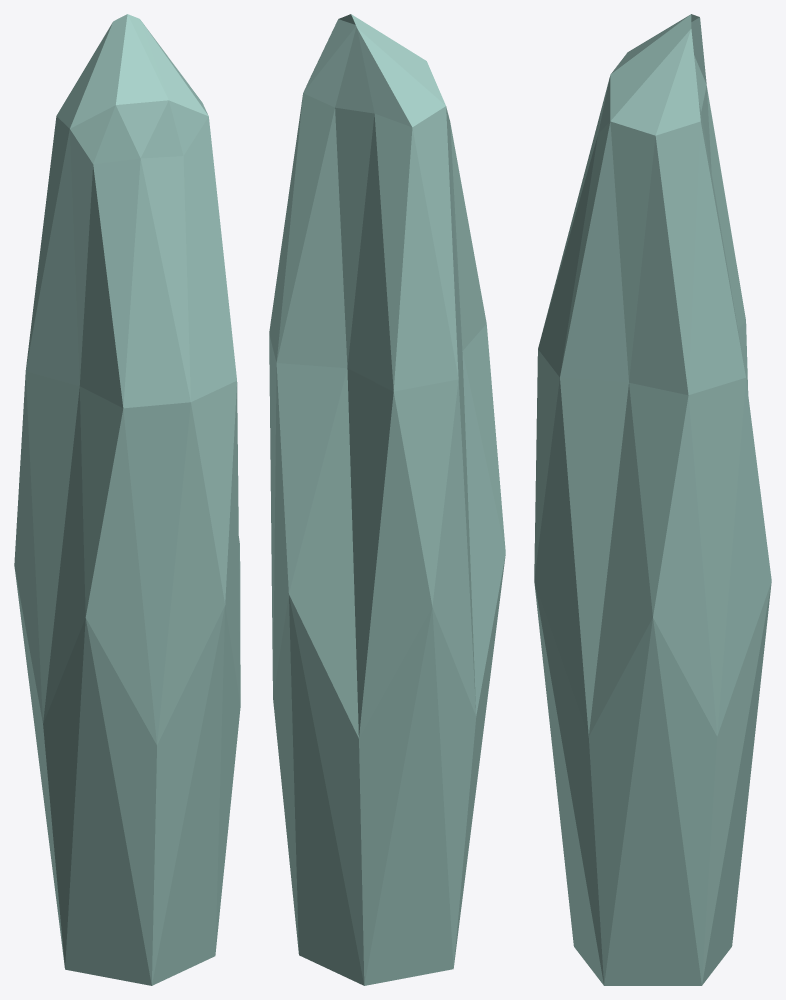
Rendered from monolith.fbx.
3 renders of one model, left to right at view 1: azimuth 30°, elevation 25°; view 2: azimuth 150°, elevation 25°; view 3: azimuth 270°, elevation 25°, orthographic. The views are drawn at different scales.
Visible parts, largest first — view 1: Icosphere; view 2: Icosphere; view 3: Icosphere.
Part boxes in pixels (x1,y1,x2,y2): Icosphere: (14,14,240,985); Icosphere: (269,14,505,985); Icosphere: (534,14,771,985).
Bounding box in the file's own units: 166 × 743 × 169.
